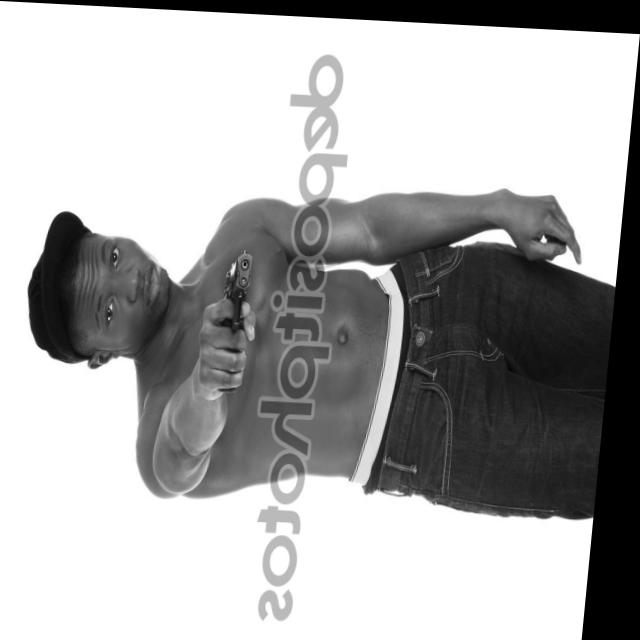handgun: (216, 250, 268, 382)
